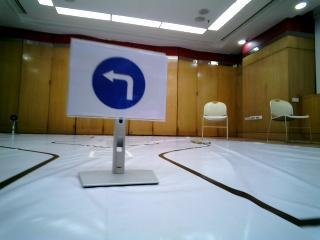left: (75, 37, 170, 122)
